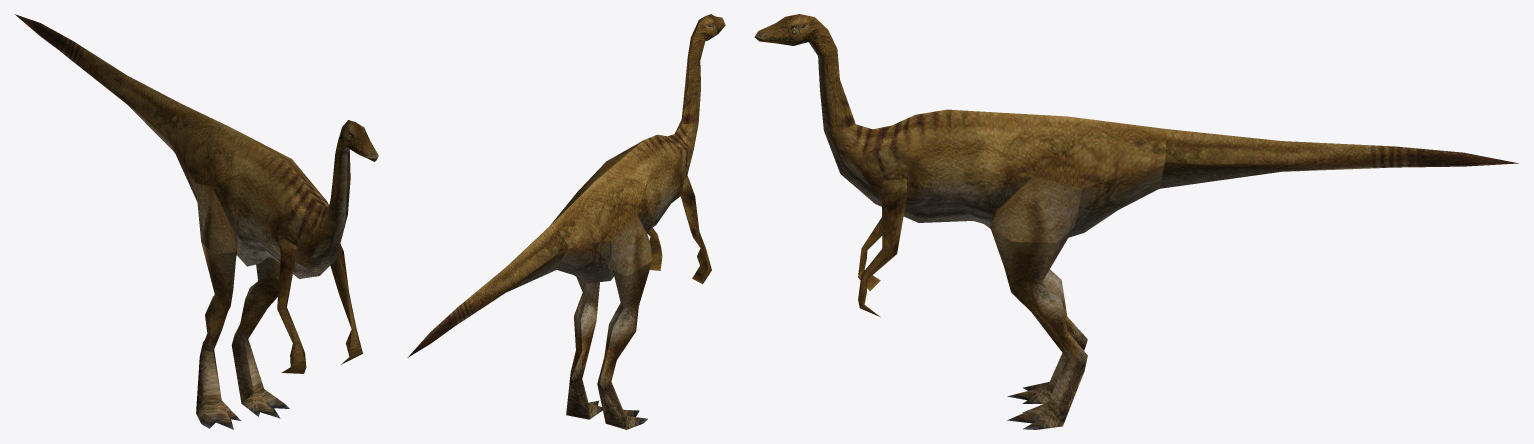
File: galli.obj
The picture shows the model from 3 angles, left to right: view 1: azimuth 30°, elevation 25°; view 2: azimuth 150°, elevation 25°; view 3: azimuth 270°, elevation 25°; orthographic projection. The views are drawn at different scales.
Parts seen in each view (by area): view 1: D_Tail_mesh.002; view 2: D_Tail_mesh.002; view 3: D_Tail_mesh.002.
Part boxes in pixels (<box>): D_Tail_mesh.002: <box>14,14,378,429</box>; D_Tail_mesh.002: <box>407,14,725,429</box>; D_Tail_mesh.002: <box>754,14,1518,429</box>.
Bounding box in the file's own units: 0.2048 × 0.8774 × 1.54.
1 material, 1 textured.
